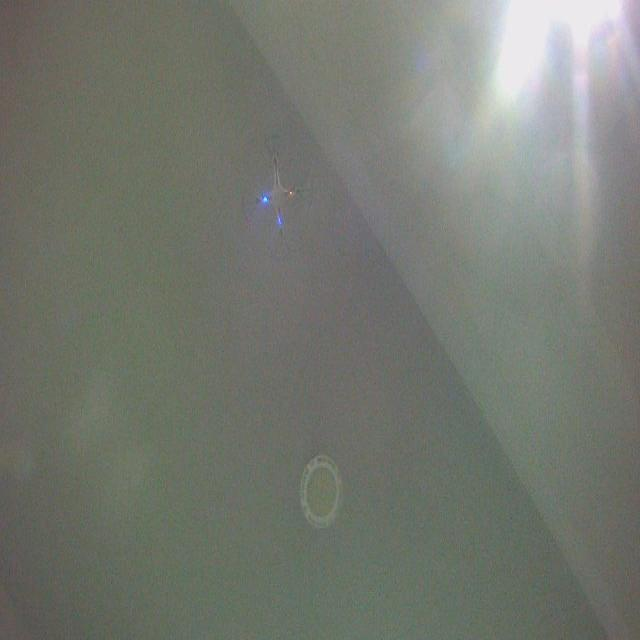drone: (241, 134, 317, 263)
